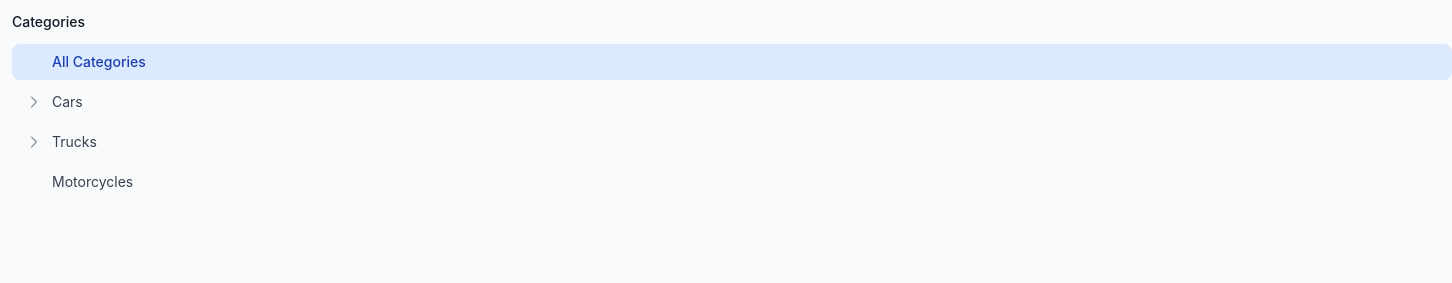
CategoryBrowser › collapses category when collapse button is clicked
The width and height of the screenshot is (1452, 283).
Click the button without text next to "Cars" at (34, 102), box left=24, top=92, right=44, bottom=112
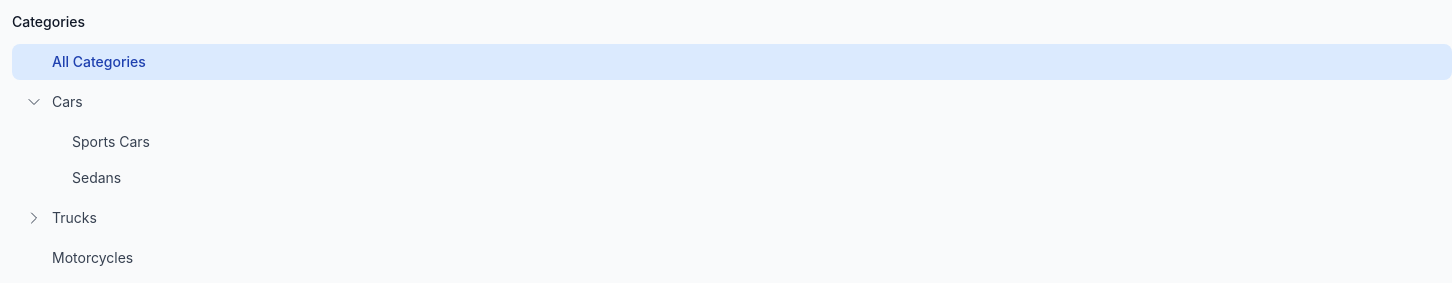
Now the text "Sports Cars" is shown, box left=72, top=133, right=150, bottom=150
Click the 1st button at (34, 102), box left=24, top=92, right=44, bottom=112
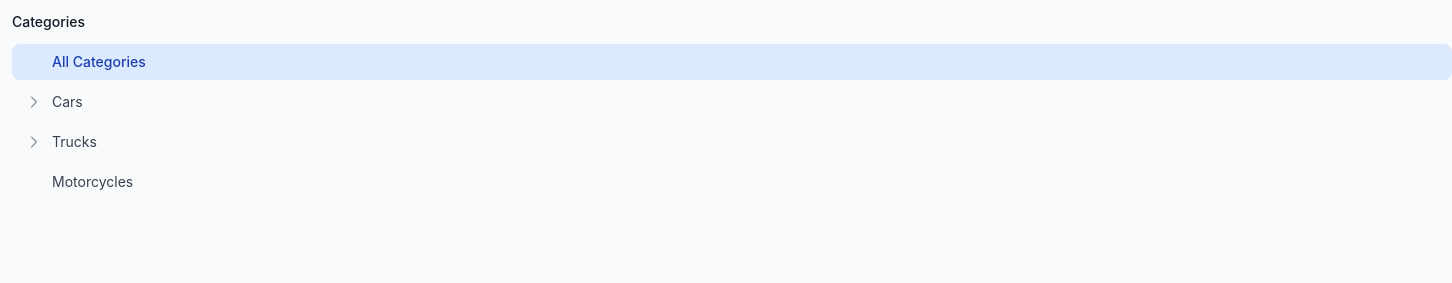
Now the text "Sports Cars" is gone
